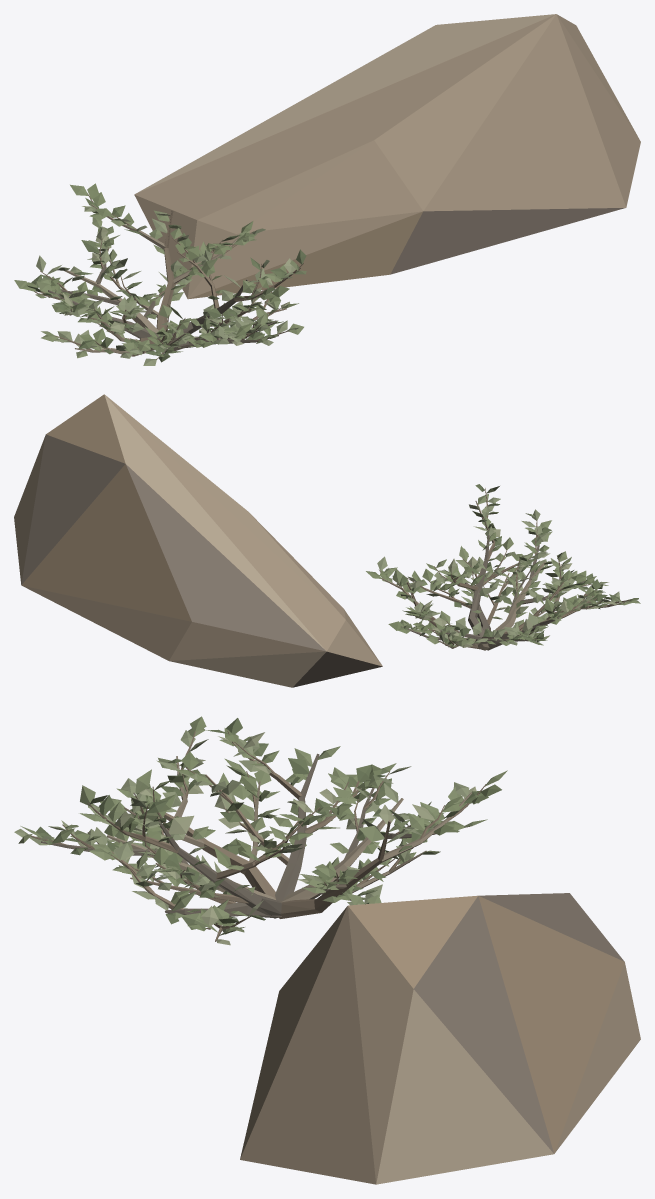
3 renders of one model, top to bottom at view 1: azimuth 30°, elevation 25°; view 2: azimuth 150°, elevation 25°; view 3: azimuth 270°, elevation 25°, orthographic. The views are drawn at different scales.
Visible parts, largest first — view 1: c01b; view 2: c01b; view 3: c01b.
Boxes of the visible parts, x1,y1,x2,y2 form: c01b: (14, 14, 640, 365); c01b: (14, 394, 640, 687); c01b: (14, 716, 640, 1184).
Bounding box in the file's own units: 1.3 × 0.4046 × 0.7792.
